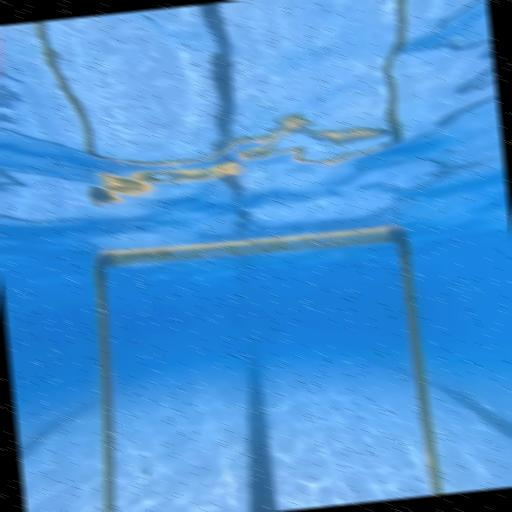gate: (72, 218, 445, 512)
